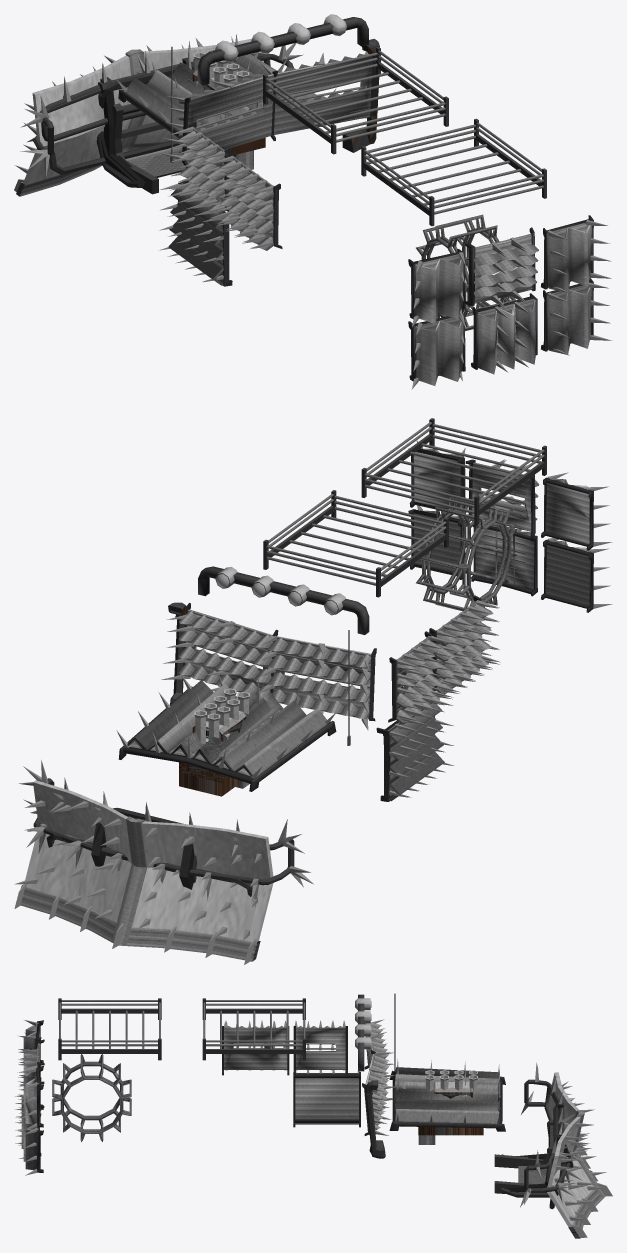
File: GMCVanArmor.fbx
3 views of the same model, one above another, from view 1: azimuth 30°, elevation 25°; view 2: azimuth 150°, elevation 25°; view 3: azimuth 270°, elevation 25° (orthographic). The views are drawn at different scales.
Parts seen in each view (by area): view 1: trunkreinforcedrear, roofrack, plow, windowheavyspikedfront, windowheavyfront, trunkheavyrear, hoodreinforcedfront, rooflights, pushbar_medium, doorfrontreinforcedleft, windowrearreinforcedleft, windowreinforcedrear (+19 smaller); view 2: plow, roofrack, trunkheavyrear, plow_spiked, windowreinforcedfront, hoodreinforcedfront, pushbar_large_spiked, airscooppiped, doorfrontreinforcedleft, rooflights, windowheavyfront, chaintires_back (+19 smaller); view 3: roofrack, hoodreinforcedfront, plow, doorfrontheavyleft, windowrearheavyleft, windowfrontheavyleft, plow_spiked, trunkreinforcedrear, chaintires_back, chaintires_front, airscooppiped, pushbar_large_spiked (+15 smaller).
Boxes of the visible parts, x1,y1,x2,y2 form: trunkreinforcedrear: (414, 219, 591, 385); roofrack: (263, 46, 546, 226); plow: (14, 38, 270, 196); windowheavyspikedfront: (161, 55, 375, 161); windowheavyfront: (182, 52, 375, 167); trunkheavyrear: (408, 215, 593, 381); hoodreinforcedfront: (122, 54, 316, 130); rooflights: (197, 14, 368, 85); pushbar_medium: (49, 64, 194, 187); doorfrontreinforcedleft: (168, 183, 225, 285); windowrearreinforcedleft: (217, 160, 275, 250); windowreinforcedrear: (474, 243, 538, 297); plow: (14, 780, 273, 964); roofrack: (263, 418, 546, 597); trunkheavyrear: (408, 448, 593, 612); plow_spiked: (14, 782, 270, 941); windowreinforcedfront: (179, 610, 371, 718); hoodreinforcedfront: (123, 680, 332, 783); pushbar_large_spiked: (19, 760, 313, 907); airscooppiped: (179, 688, 249, 796); doorfrontreinforcedleft: (383, 703, 444, 801); rooflights: (198, 566, 369, 634); windowheavyfront: (184, 603, 376, 721); chaintires_back: (416, 497, 517, 609); roofrack: (58, 998, 305, 1060); hoodreinforcedfront: (392, 1067, 502, 1123); plow: (504, 1072, 612, 1238); doorfrontheavyleft: (293, 1072, 360, 1127); windowrearheavyleft: (222, 1026, 289, 1075); windowfrontheavyleft: (293, 1026, 347, 1075); plow_spiked: (544, 1086, 606, 1224); trunkreinforcedrear: (21, 1022, 40, 1170); chaintires_back: (52, 1054, 131, 1141); chaintires_front: (52, 1055, 131, 1137); airscooppiped: (418, 1070, 483, 1135); pushbar_large_spiked: (520, 1062, 587, 1207).
Bounding box in the file's own units: 297 × 237 × 720.
